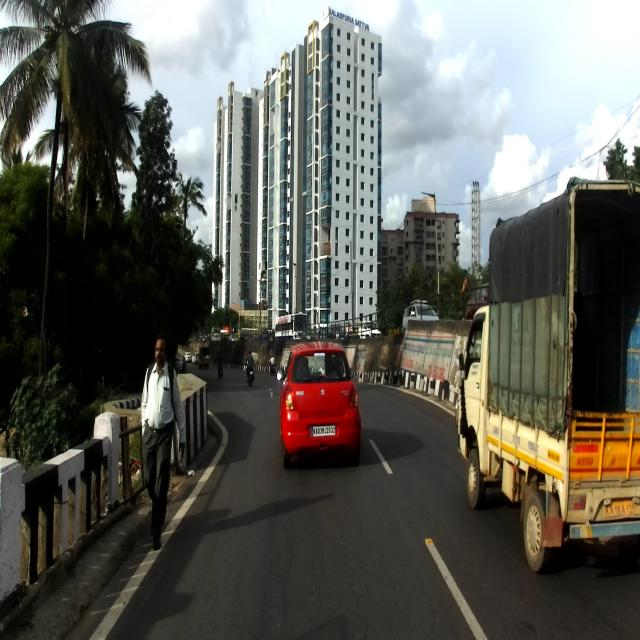Car_Maruti-Suzuki: (276, 340, 361, 468)
Car_Toyota: (400, 298, 441, 328)
truck: (457, 176, 638, 574)
